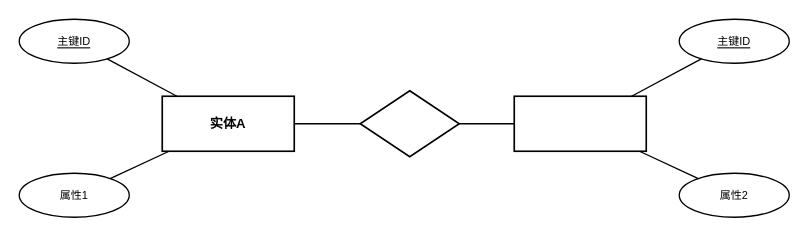
This 810x238 diagram has some shape labels left out. The shapes that lost their labels are listed below. From the top down, each one's box as (x1, y1, x2, y2) in pixels, then its label:
(359, 89, 460, 157): 关系
(513, 95, 647, 152): 实体B
